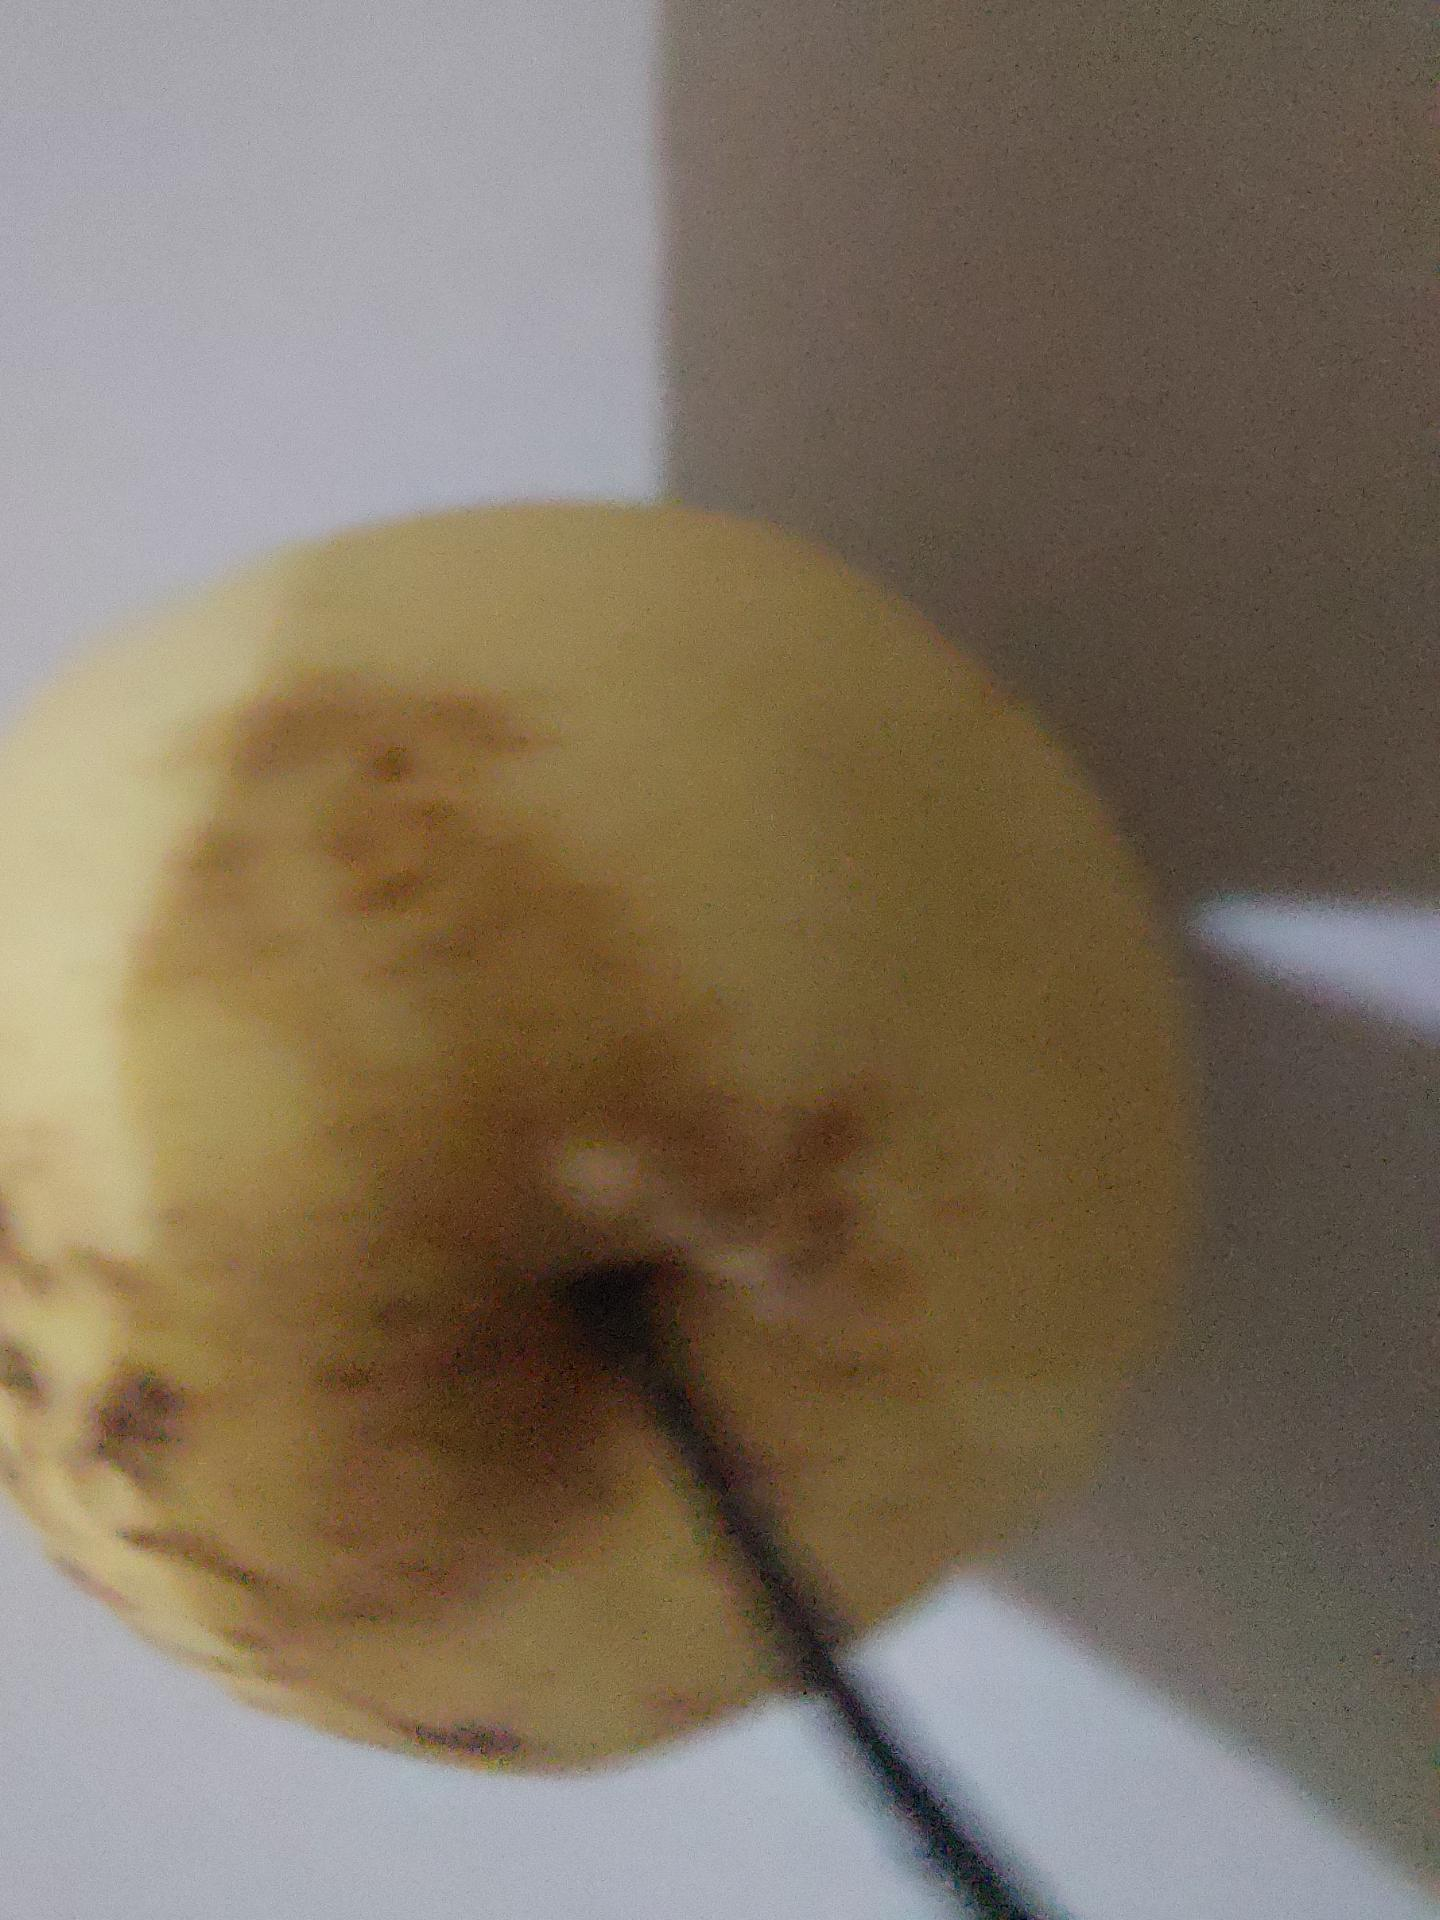Bad Pear: (0, 481, 1212, 1804)
